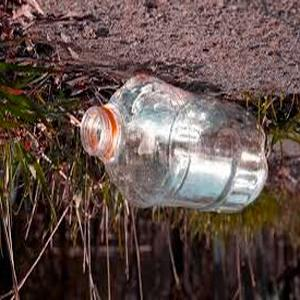Plastic: (80, 73, 272, 216)
